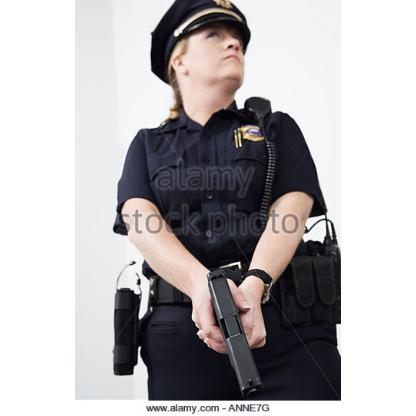gun: (198, 270, 262, 394)
